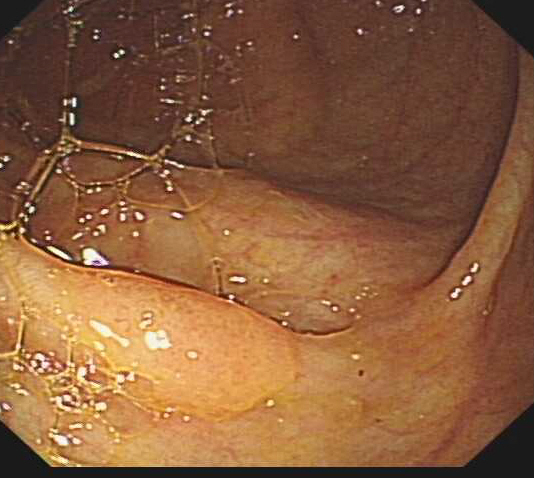adenoma: (26, 259, 306, 415)
